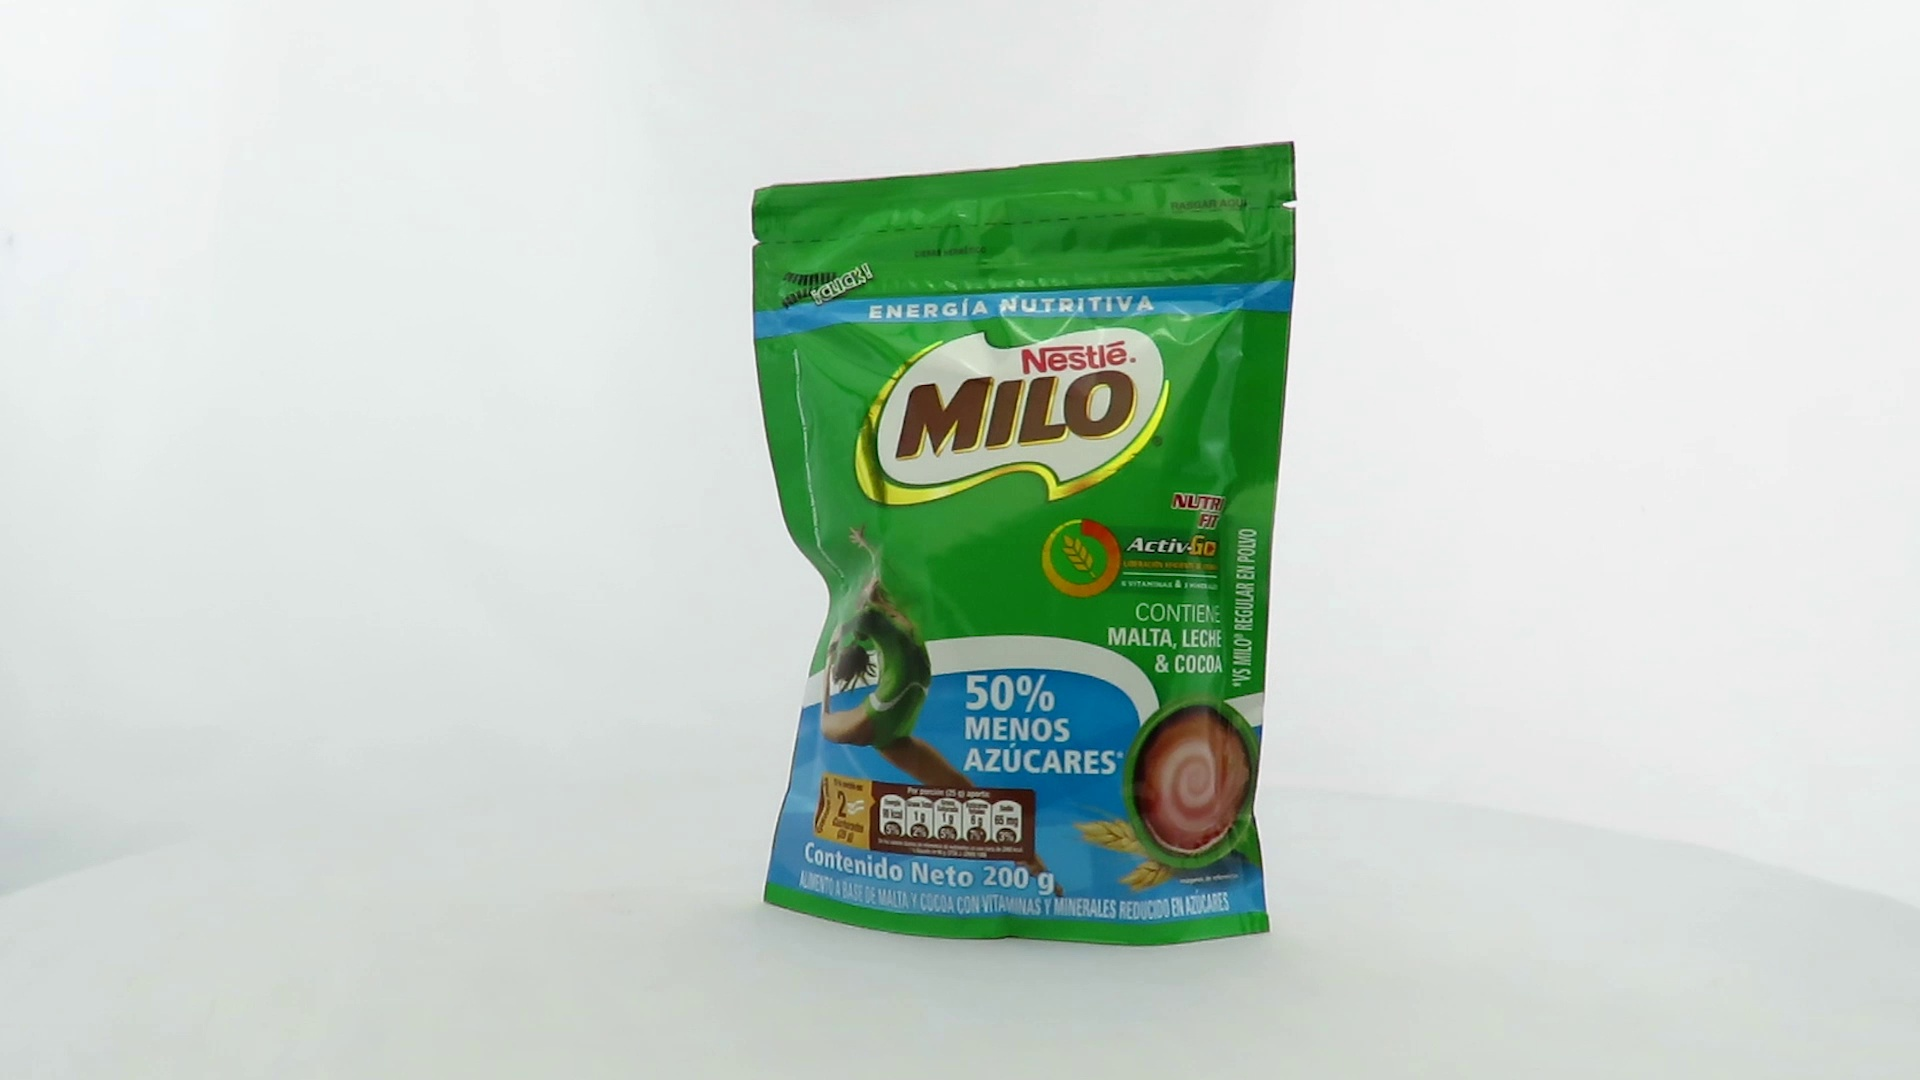COL0170205DYP20000: (746, 136, 1303, 953)
